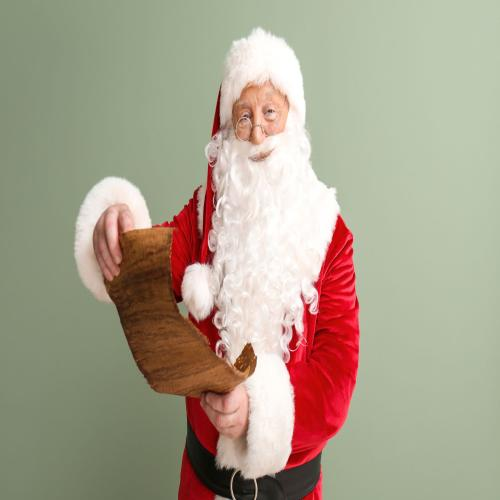Santa: (74, 27, 359, 500)
